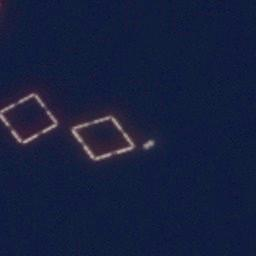square_solid: (69, 111, 137, 165), (1, 90, 61, 147)
